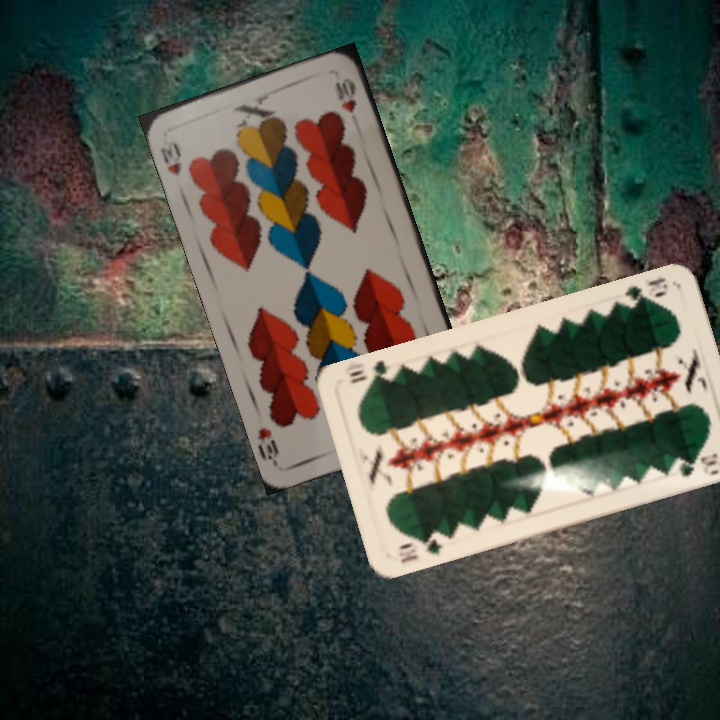G10: (620, 273, 670, 307), (394, 533, 445, 566)
H10: (157, 134, 184, 179)
